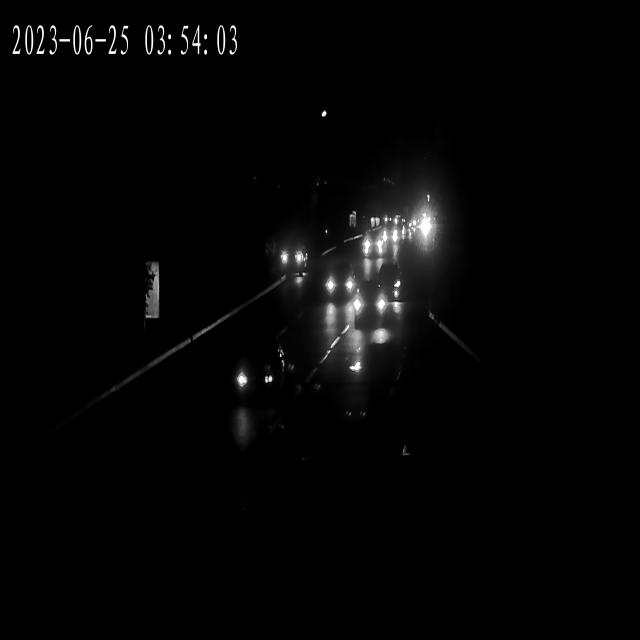Car: (233, 345, 283, 401), (352, 284, 392, 326), (323, 266, 361, 300), (276, 241, 312, 275), (375, 268, 402, 302), (359, 232, 388, 259), (408, 220, 436, 243), (406, 216, 433, 236), (393, 224, 413, 243), (388, 228, 408, 245), (383, 228, 403, 245), (380, 215, 397, 227)
